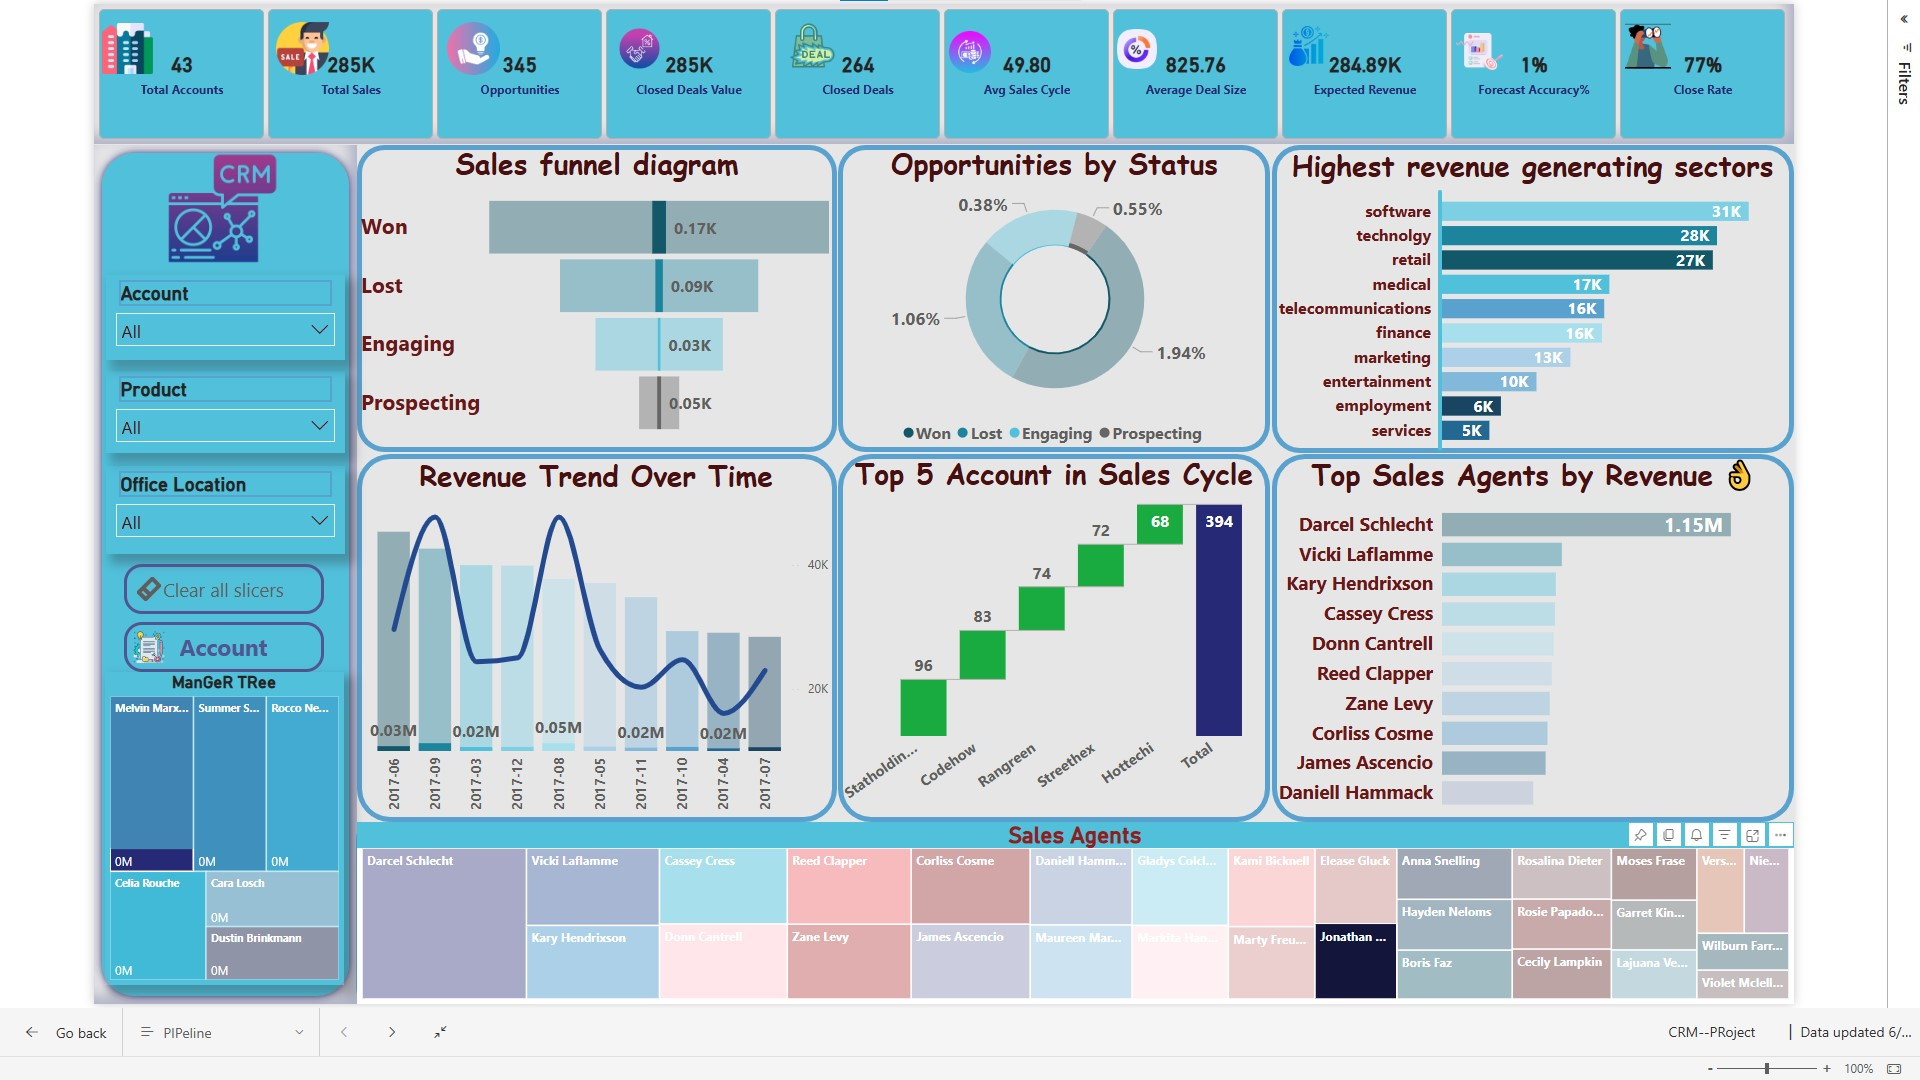

The page's visual inventory and layout, read from the dashboard file:
{"tool":"powerbi","page":{"name":"PIPeline","canvas":[1700,1000],"ordinal":0},"visuals":[{"type":"shape","box":[0,141.5,263.4,858.5],"z":0},{"type":"shape","box":[744.3,140.9,431.6,306.8],"z":1000},{"type":"shape","box":[263.4,450,479.3,368.3],"z":2000},{"type":"shape","box":[262.8,140.9,480.1,306.8],"z":3000},{"type":"shape","box":[743.9,450,432,368.3],"z":4000},{"type":"shape","box":[1178,141.5,522,307.3],"z":5000},{"type":"shape","box":[1178,450,522,368.3],"z":6000},{"type":"shape","box":[264.2,819.2,1435.8,181.2],"z":7000},{"type":"cardVisual","fields":{"Data":["Calendar.Total Accounts","Calendar.Total Sales","Calendar.Total Opportunities","Calendar.Closed Deals Value","Calendar.Closed Deals","Calendar.Avg Sales Cycle","Calendar.Average Deal Size","Calendar.Expected Revenue","Calendar.Forecast Accuracy %","Calendar.Close Rate"]},"box":[0,0,1700,140.2],"z":8000},{"type":"funnel","title":"Sales funnel diagram","fields":{"Category":["sales_pipeline.Deal Stage"],"Y":["CountNonNull(sales_pipeline.Opportunity Id)"]},"box":[262.3,138.9,482.4,309.1],"z":9000},{"type":"barChart","title":"Highest revenue generating sectors","fields":{"Y":["Subsidiary Of.Total Revenue by Sector"],"Category":["Subsidiary Of.Sector"]},"box":[1178,141.5,522,309.8],"z":10000},{"type":"donutChart","title":"Opportunities by Status","fields":{"Category":["sales_pipeline.Deal Stage"],"Y":["CountNonNull(sales_pipeline.Opportunity Id)"]},"box":[743.9,139,434.1,309.8],"z":11000},{"type":"clusteredBarChart","title":"Top Sales Agents by Revenue 👌 ","fields":{"Category":["sales_pipeline.Sales Agent"],"Y":["Sum(sales_pipeline.Close Value)"]},"box":[1178,450,522,368.3],"z":12000},{"type":"lineStackedColumnComboChart","title":"Revenue Trend Over Time","fields":{"Category":["sales_pipeline.Close-Month"],"Y":["Calendar.Closed Deals Value"],"Y2":["Calendar.Total Sales"]},"box":[262.3,451.1,480.8,366.9],"z":13000},{"type":"waterfallChart","title":"Top 5 Account in Sales Cycle","fields":{"Category":["sales_pipeline.Account"],"Y":["Calendar.Avg Sales Cycle"]},"box":[742.7,448.8,435.4,369.5],"z":14000},{"type":"shape","box":[262.3,818,1437.7,182.6],"z":15000},{"type":"treemap","title":"Sales Agents","fields":{"Group":["sales_pipeline.Sales Agent"],"Values":["Sum(sales_pipeline.Close Value)"]},"box":[262.8,817.7,1437.2,182],"z":16000},{"type":"slicer","fields":{"Values":["sales_pipeline.Account"]},"box":[12.2,271.1,239.3,85.1],"z":17000},{"type":"slicer","fields":{"Values":["sales_pipeline.Product"]},"box":[12.2,366.6,239.3,82.2],"z":18000},{"type":"slicer","fields":{"Values":["Subsidiary Of.Office Location"]},"box":[12.2,462,239.3,88.1],"z":19000},{"type":"actionButton","box":[30.5,559.5,200,50],"z":21000},{"type":"actionButton","box":[30.5,618.1,200,50],"z":22000},{"type":"treemap","title":"ManGeR TRee","fields":{"Group":["sales_teams.Manager"],"Values":["Sum(sales_pipeline.Close Value)"]},"box":[10.7,668,239.6,313.2],"z":23000},{"type":"image","box":[10.4,138,240.3,130.5],"z":23001},{"type":"image","box":[3,3,60.8,81.6],"z":23002},{"type":"image","box":[172.1,13.4,72.7,62.3],"z":23003},{"type":"image","box":[344.2,13.4,71.2,62.3],"z":23004},{"type":"image","box":[510.3,19.3,71.2,50.4],"z":23005},{"type":"image","box":[676.4,13.4,86,56.4],"z":23006},{"type":"image","box":[850,19.3,51.9,56.4],"z":23007},{"type":"image","box":[1017.6,13.4,50.4,62.3],"z":23008},{"type":"image","box":[1189.7,13.4,50.4,56.4],"z":23009},{"type":"image","box":[1357.3,19.3,56.4,56.4],"z":23010},{"type":"image","box":[1525.8,12.8,56.4,57.6],"z":23011}]}

Visuals, with their boxes on the page's 1700x1000 design canvas (x1, y1, x2, y2). These are canvas units, not pixel positions in the 1920x1080 screenshot, which may show the page scaled, cropped or inside an application window:
shape: {"x1": 0, "y1": 142, "x2": 263, "y2": 1000}
shape: {"x1": 744, "y1": 141, "x2": 1176, "y2": 448}
shape: {"x1": 263, "y1": 450, "x2": 743, "y2": 818}
shape: {"x1": 263, "y1": 141, "x2": 743, "y2": 448}
shape: {"x1": 744, "y1": 450, "x2": 1176, "y2": 818}
shape: {"x1": 1178, "y1": 142, "x2": 1700, "y2": 449}
shape: {"x1": 1178, "y1": 450, "x2": 1700, "y2": 818}
shape: {"x1": 264, "y1": 819, "x2": 1700, "y2": 1000}
cardVisual - Calendar.Total Accounts x Calendar.Total Sales: {"x1": 0, "y1": 0, "x2": 1700, "y2": 140}
"Sales funnel diagram" funnel: {"x1": 262, "y1": 139, "x2": 745, "y2": 448}
"Highest revenue generating sectors" barChart: {"x1": 1178, "y1": 142, "x2": 1700, "y2": 451}
"Opportunities by Status" donutChart: {"x1": 744, "y1": 139, "x2": 1178, "y2": 449}
"Top Sales Agents by Revenue 👌 " clusteredBarChart: {"x1": 1178, "y1": 450, "x2": 1700, "y2": 818}
"Revenue Trend Over Time" lineStackedColumnComboChart: {"x1": 262, "y1": 451, "x2": 743, "y2": 818}
"Top 5 Account in Sales Cycle" waterfallChart: {"x1": 743, "y1": 449, "x2": 1178, "y2": 818}
shape: {"x1": 262, "y1": 818, "x2": 1700, "y2": 1001}
"Sales Agents" treemap: {"x1": 263, "y1": 818, "x2": 1700, "y2": 1000}
slicer - sales_pipeline.Account: {"x1": 12, "y1": 271, "x2": 252, "y2": 356}
slicer - sales_pipeline.Product: {"x1": 12, "y1": 367, "x2": 252, "y2": 449}
slicer - Subsidiary Of.Office Location: {"x1": 12, "y1": 462, "x2": 252, "y2": 550}
actionButton: {"x1": 30, "y1": 560, "x2": 230, "y2": 610}
actionButton: {"x1": 30, "y1": 618, "x2": 230, "y2": 668}
"ManGeR TRee" treemap: {"x1": 11, "y1": 668, "x2": 250, "y2": 981}
image: {"x1": 10, "y1": 138, "x2": 251, "y2": 268}
image: {"x1": 3, "y1": 3, "x2": 64, "y2": 85}
image: {"x1": 172, "y1": 13, "x2": 245, "y2": 76}
image: {"x1": 344, "y1": 13, "x2": 415, "y2": 76}
image: {"x1": 510, "y1": 19, "x2": 582, "y2": 70}
image: {"x1": 676, "y1": 13, "x2": 762, "y2": 70}
image: {"x1": 850, "y1": 19, "x2": 902, "y2": 76}
image: {"x1": 1018, "y1": 13, "x2": 1068, "y2": 76}
image: {"x1": 1190, "y1": 13, "x2": 1240, "y2": 70}
image: {"x1": 1357, "y1": 19, "x2": 1414, "y2": 76}
image: {"x1": 1526, "y1": 13, "x2": 1582, "y2": 70}
